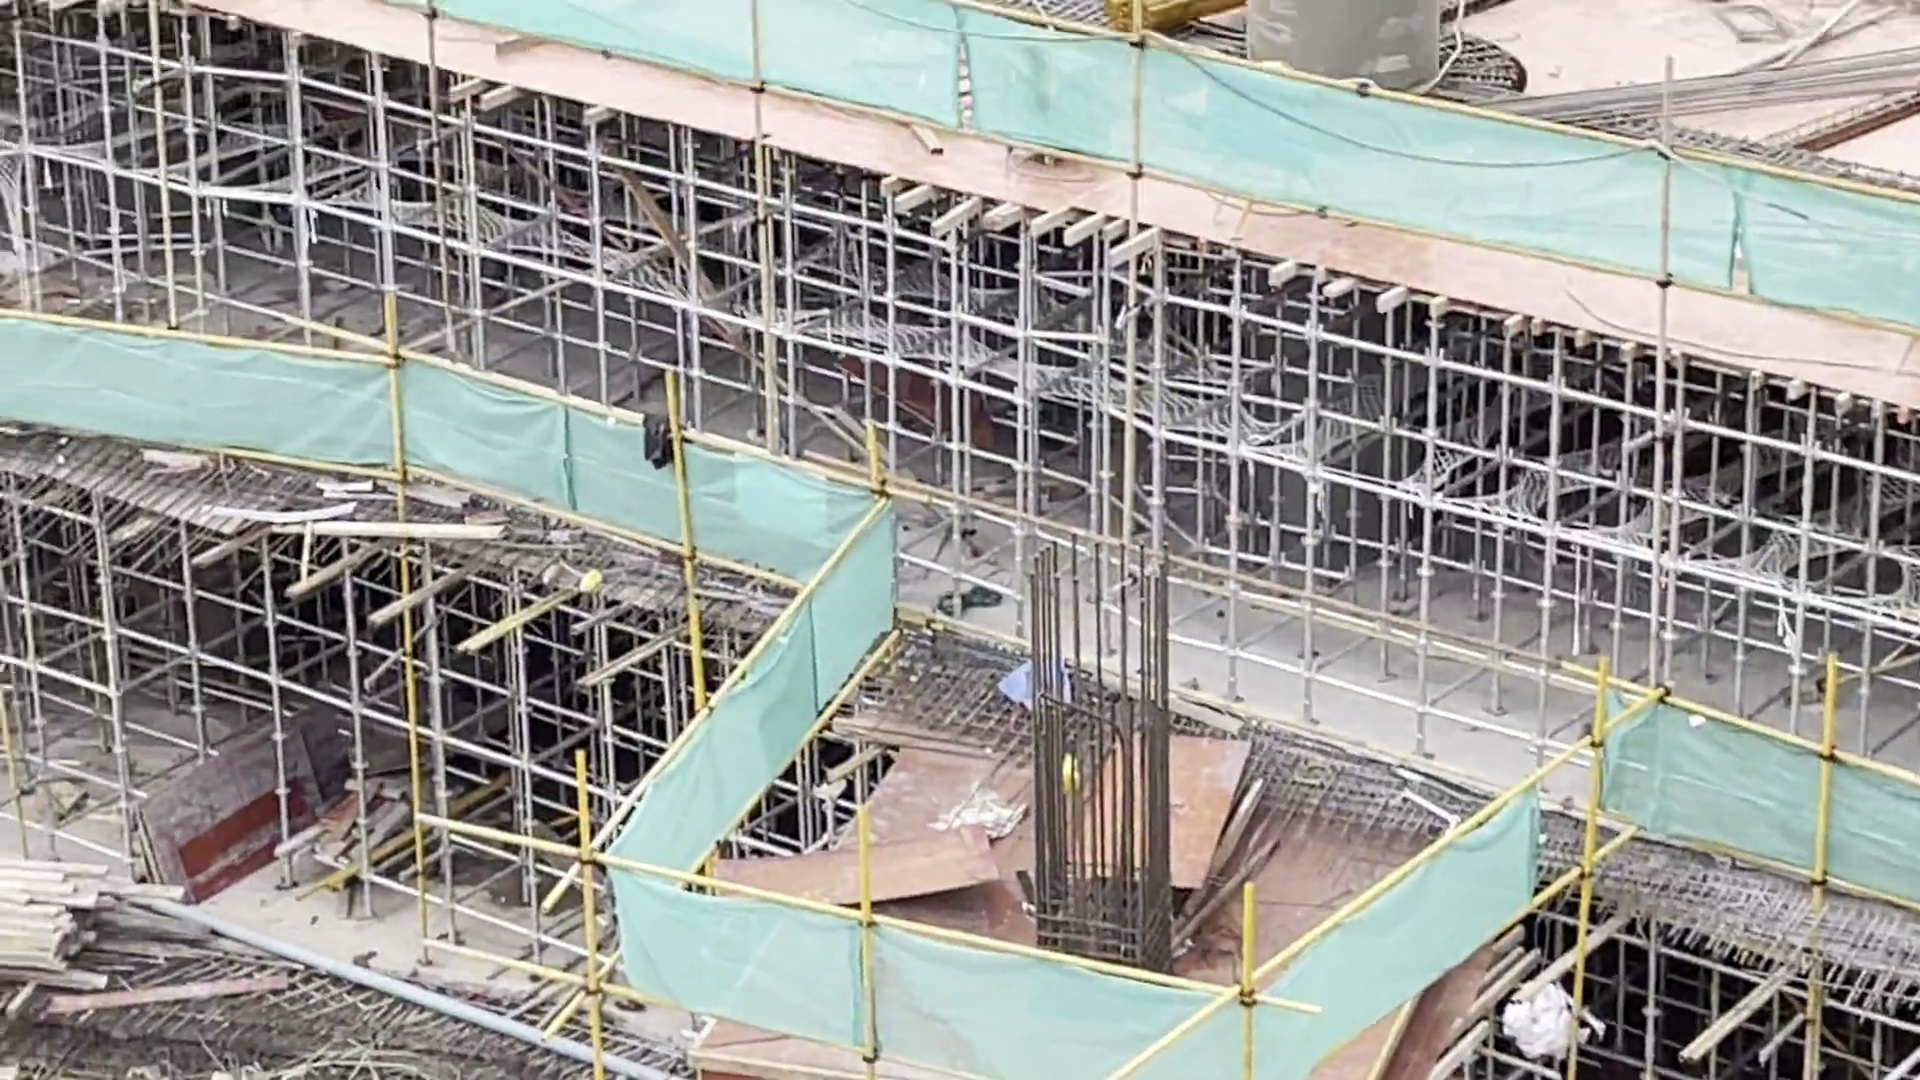wood: (1, 861, 189, 985)
